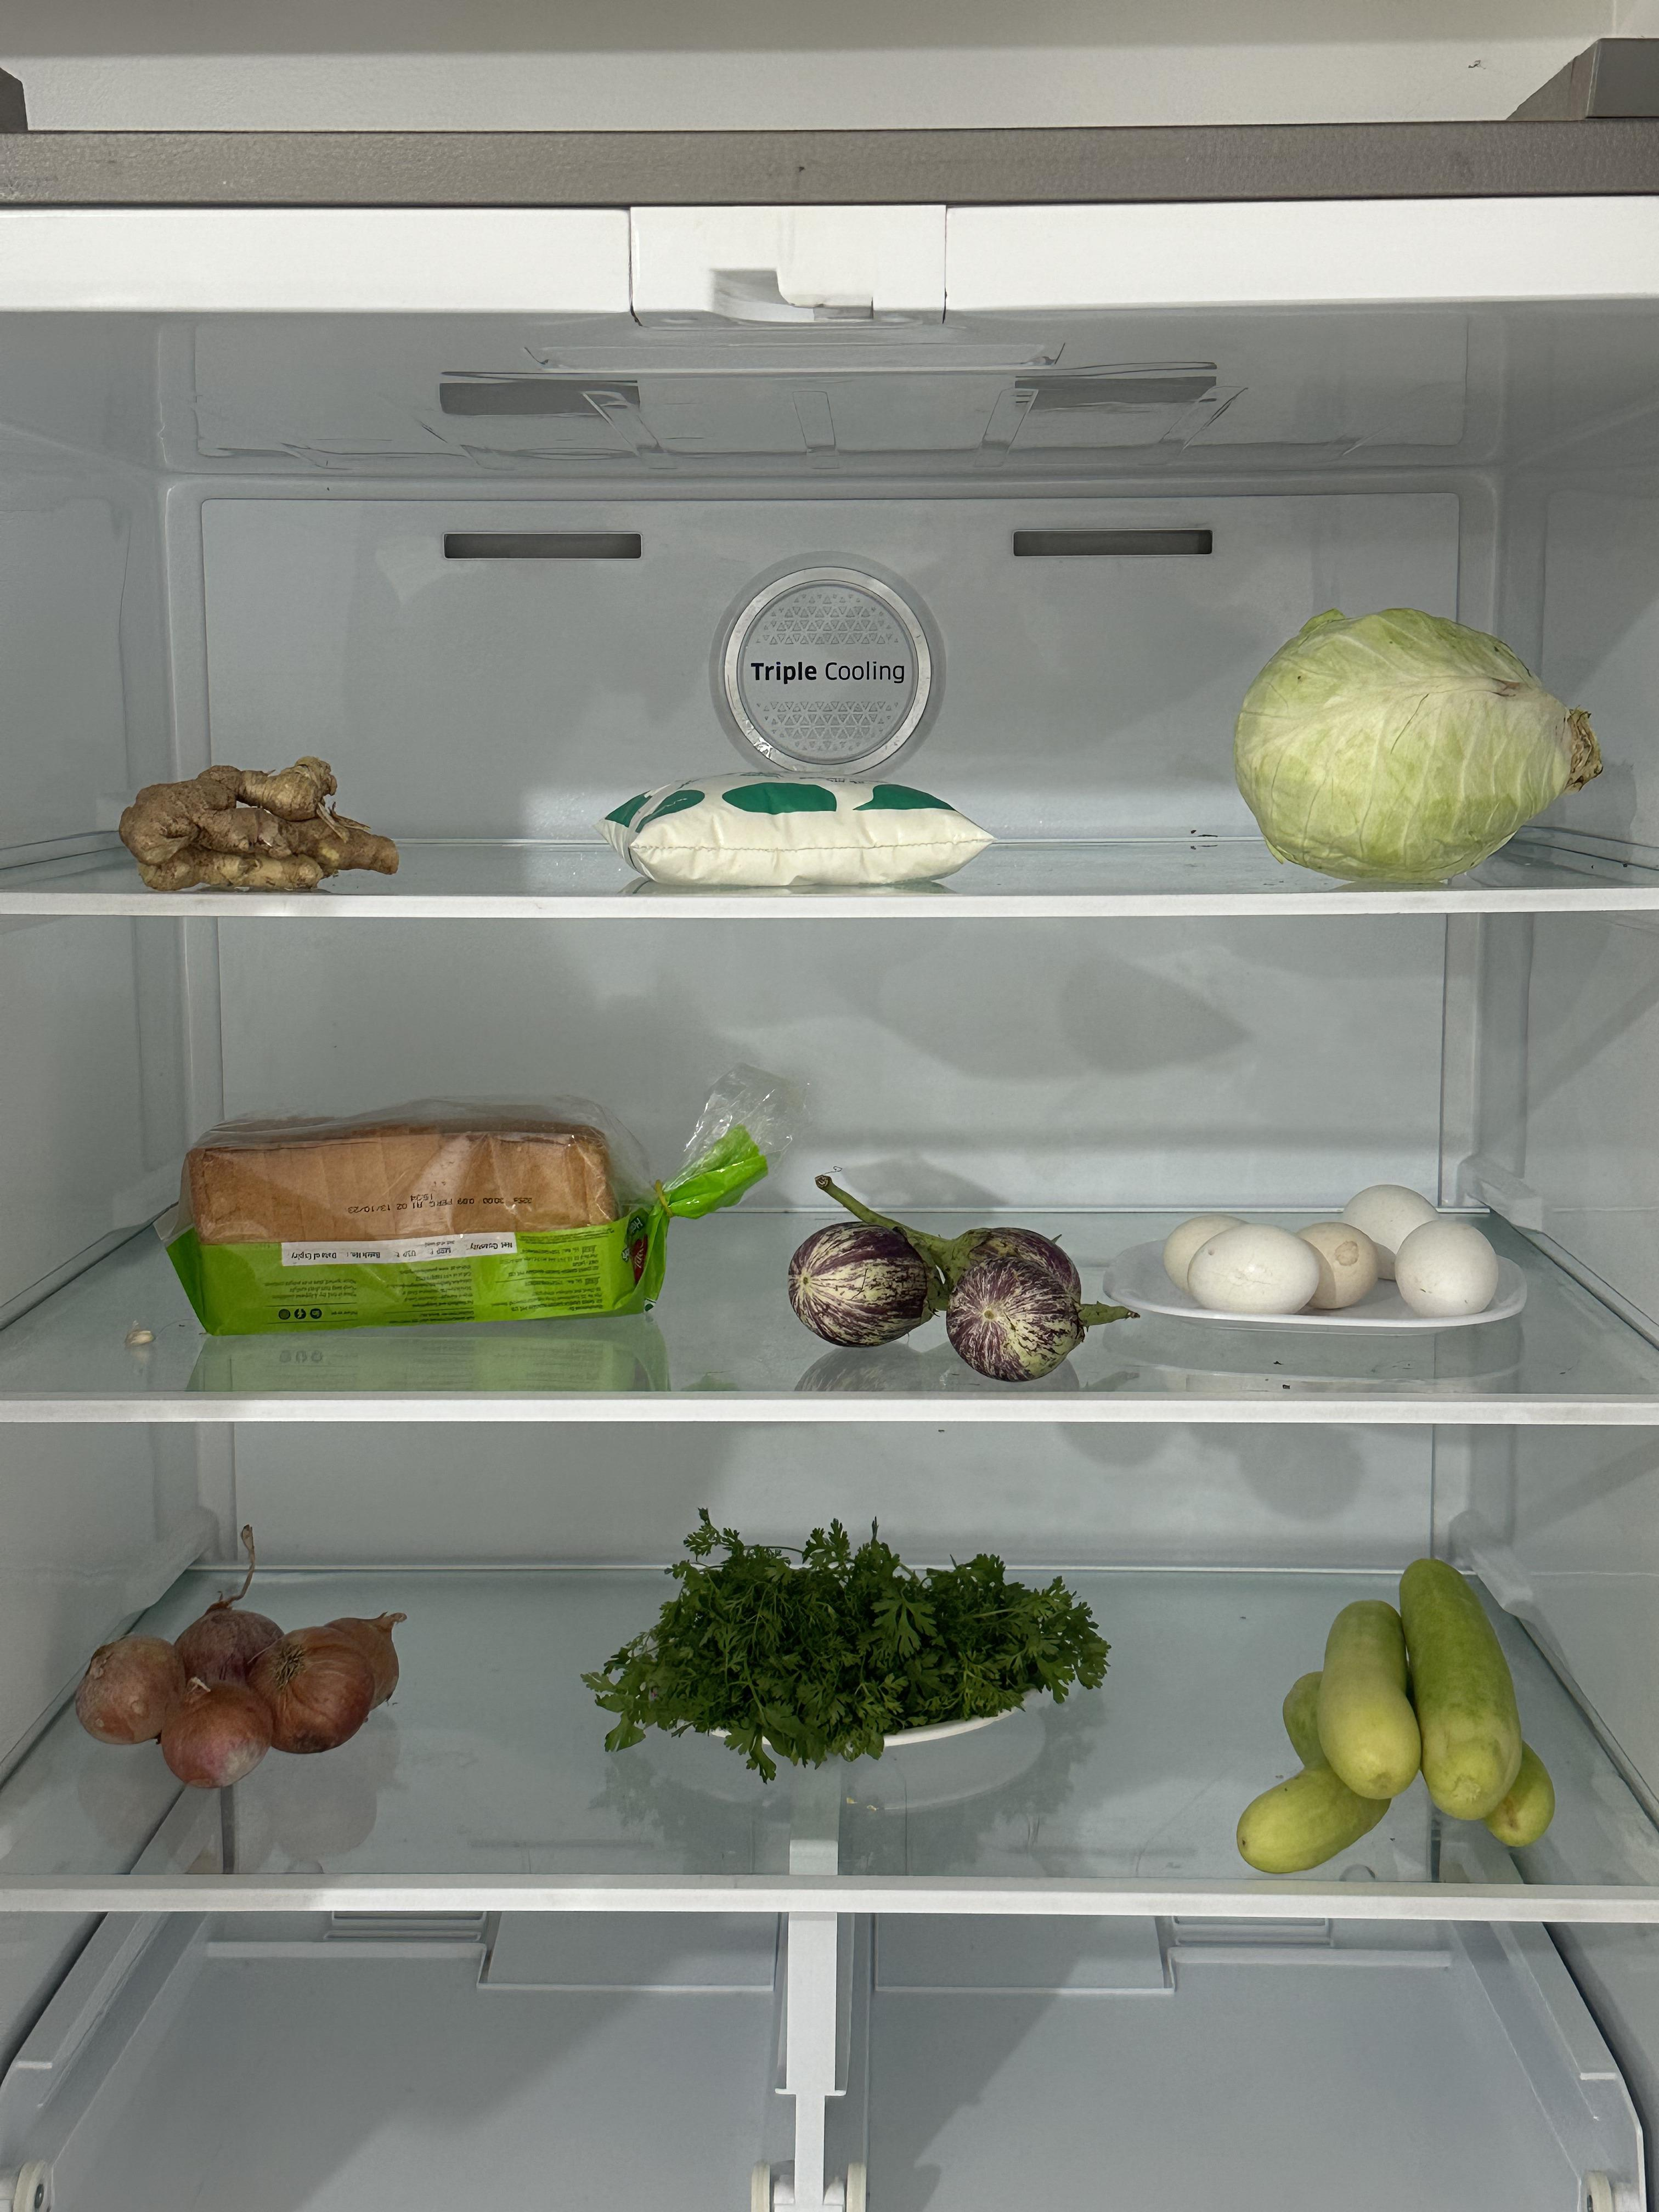bread: (166, 1099, 692, 1345)
bringal: (789, 1160, 1093, 1381)
cabbage: (1236, 599, 1598, 880)
coriander: (584, 1514, 1110, 1764)
cucumber: (1229, 1555, 1549, 1864)
egg: (1147, 1183, 1521, 1320)
ginger: (112, 754, 410, 909)
milk: (596, 761, 995, 899)
onion: (64, 1590, 404, 1808)
